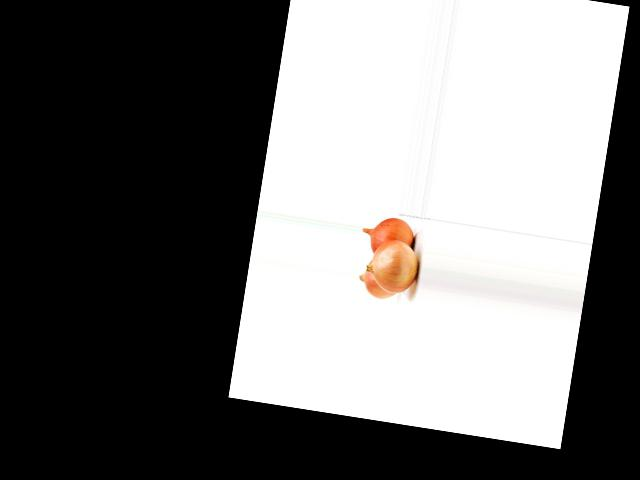onion: (362, 213, 419, 261)
